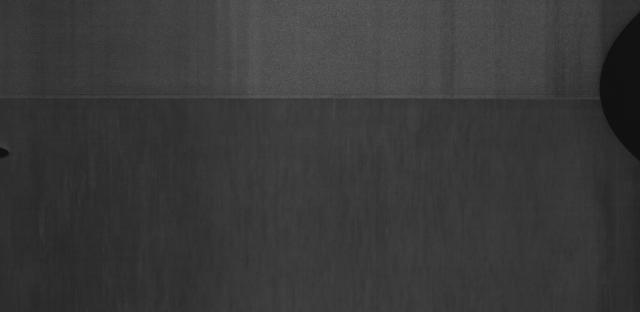crescent_gap: (568, 0, 640, 168)
welding_line: (3, 88, 609, 109)
